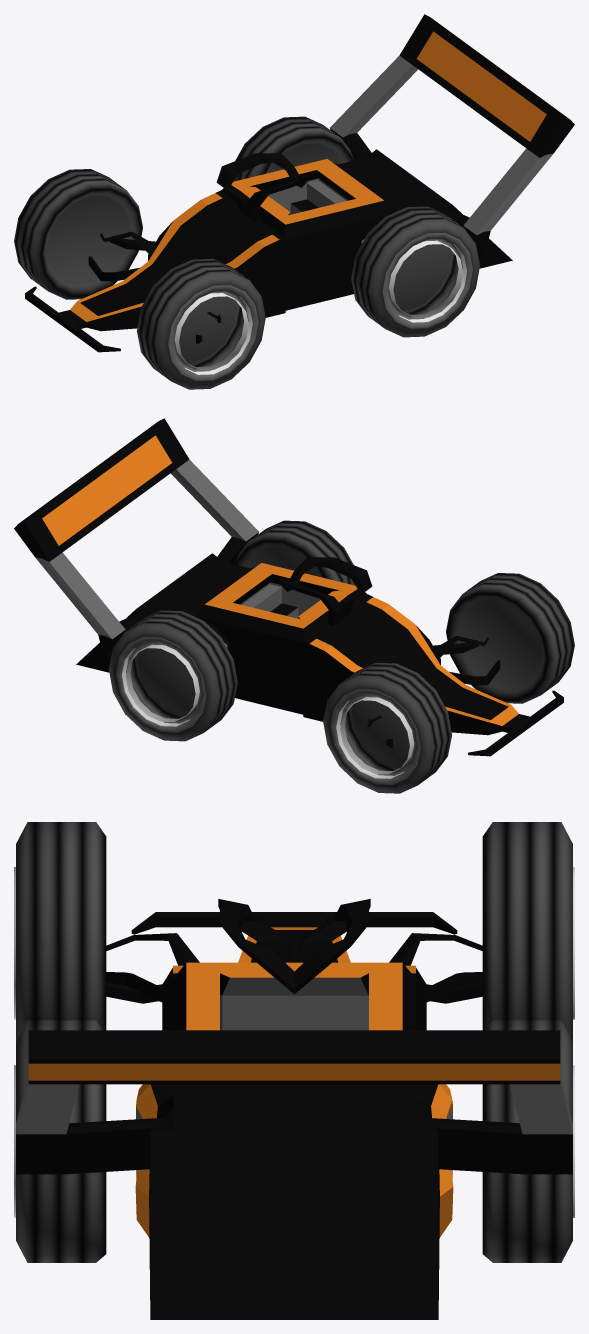
File: car.fbx
The picture shows the model from 3 angles, top to bottom: view 1: azimuth 30°, elevation 25°; view 2: azimuth 150°, elevation 25°; view 3: azimuth 270°, elevation 25°; orthographic projection. The views are drawn at different scales.
Parts seen in each view (by area): view 1: Circle, backB, Circle.001, frontB, middleB; view 2: Circle, backB, Circle.001, frontB, middleB; view 3: backB, Circle, Circle.001, frontB, middleB.
Part boxes in pixels (x1,y1,x2,y2): Circle: [14, 169, 265, 389]; backB: [330, 14, 574, 268]; Circle.001: [233, 116, 479, 337]; frontB: [25, 153, 310, 352]; middleB: [221, 159, 394, 310]; Circle: [323, 573, 574, 793]; backB: [14, 418, 258, 672]; Circle.001: [109, 520, 355, 741]; frontB: [278, 557, 563, 756]; middleB: [194, 563, 367, 714]; backB: [16, 1030, 572, 1319]; Circle: [14, 822, 574, 1041]; Circle.001: [14, 1020, 574, 1262]; frontB: [106, 899, 482, 1030]; middleB: [173, 962, 415, 1030].
Size of the model in its own units: 799 by 319 by 462.
5 materials, 1 textured.
